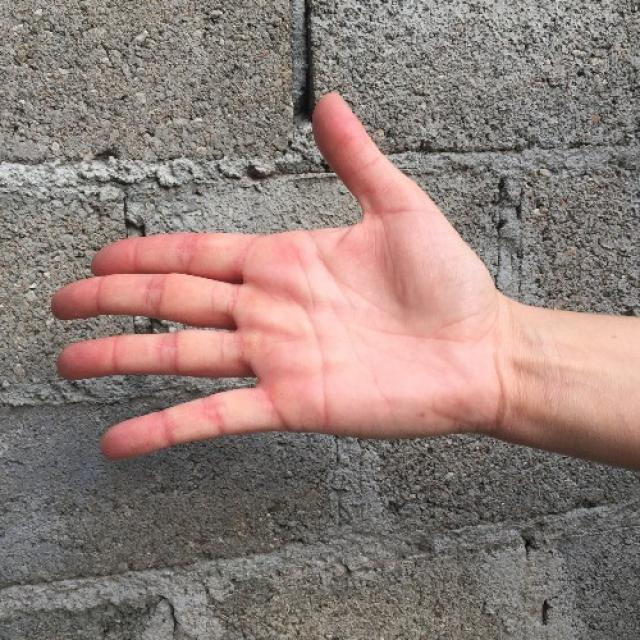paper: (56, 92, 494, 460)
